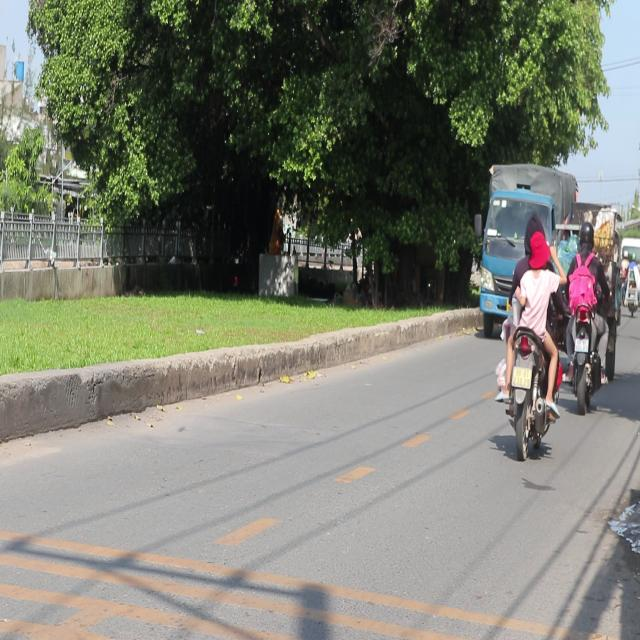helmet: (522, 210, 544, 246)
licenseplate: (494, 213, 562, 458)
motorcyclist: (526, 230, 550, 268)
nohelmet: (511, 366, 533, 390)
